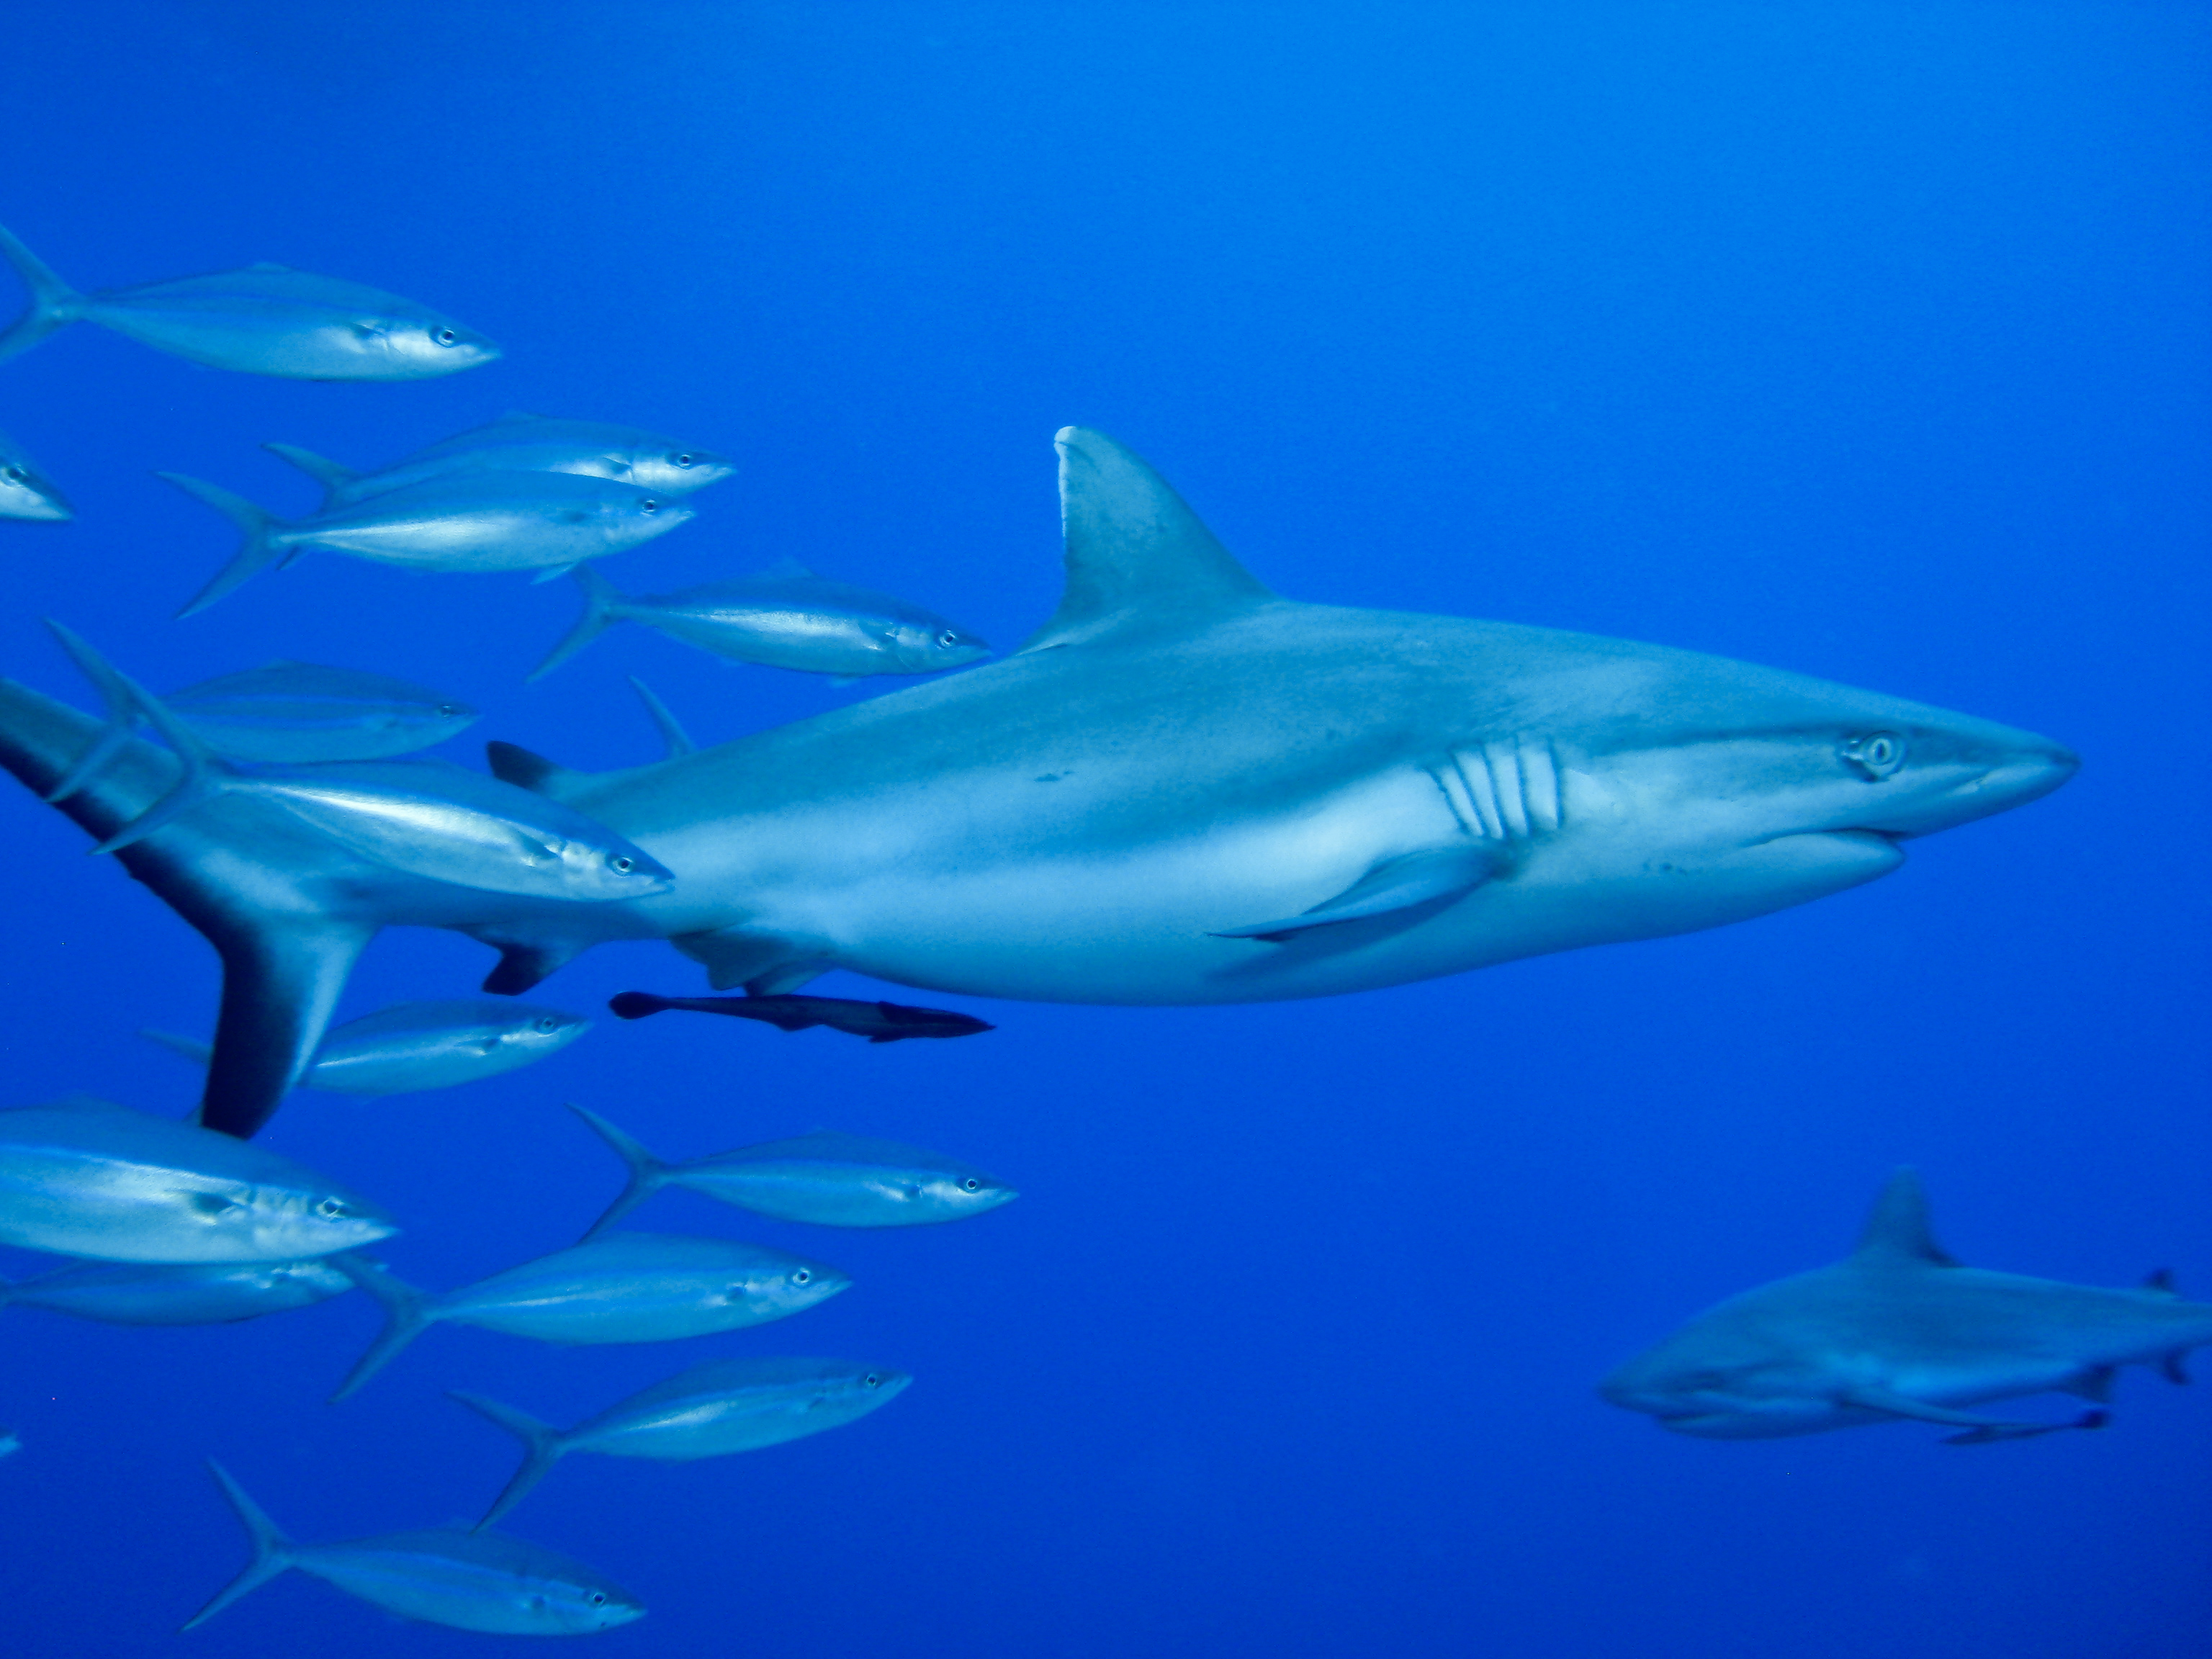Carcharhinus_amblyrhynchos: (5, 418, 2080, 1159)
